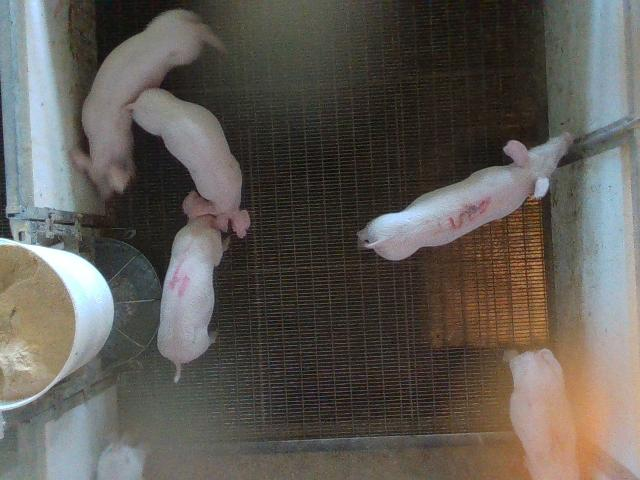pig-1: (510, 349, 579, 478)
pig-3: (358, 132, 572, 260)
pig-4: (158, 191, 250, 382)
